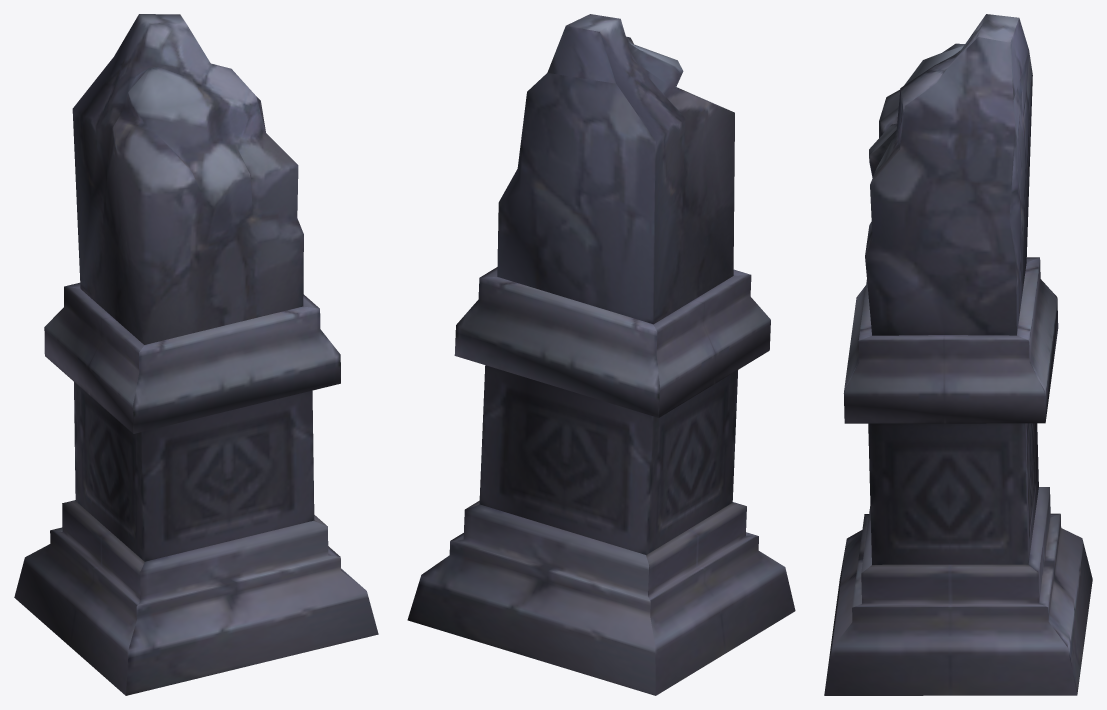
Rendered from Beidaying_xiaozhuzi.FBX.
3 renders of one model, left to right at view 1: azimuth 30°, elevation 25°; view 2: azimuth 150°, elevation 25°; view 3: azimuth 270°, elevation 25°, orthographic. The views are drawn at different scales.
Visible parts, largest first — view 1: Beidaying_xiaozhuzi; view 2: Beidaying_xiaozhuzi; view 3: Beidaying_xiaozhuzi.
Boxes of the visible parts, x1=… form: Beidaying_xiaozhuzi: x1=14, y1=14, x2=378, y2=695; Beidaying_xiaozhuzi: x1=407, y1=14, x2=795, y2=695; Beidaying_xiaozhuzi: x1=824, y1=14, x2=1092, y2=695.
Bounding box in the file's own units: 127 × 111 × 281.
